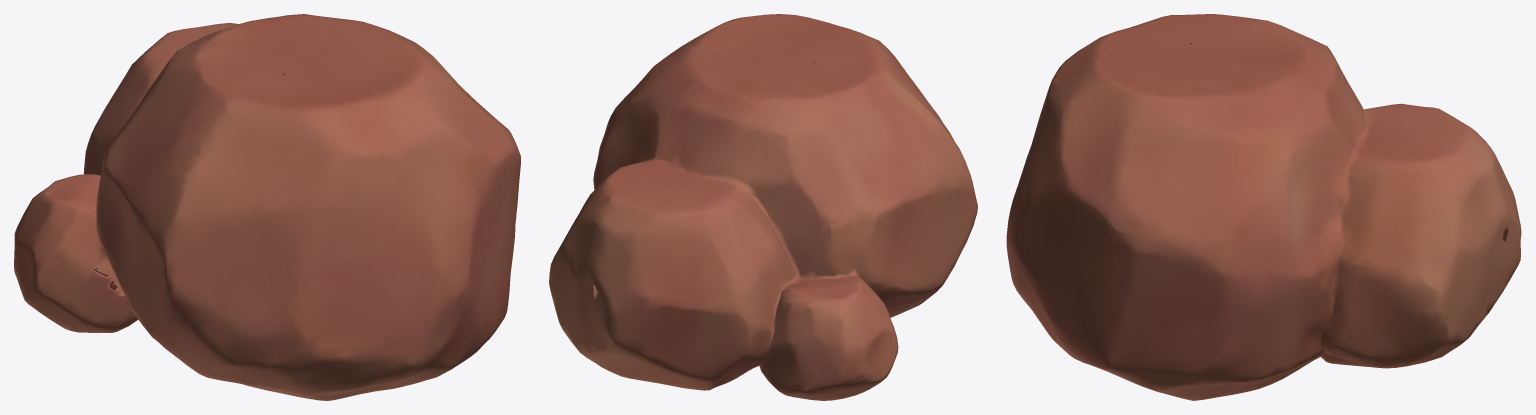
The model's file is kamni-para.glb.
The picture shows the model from 3 angles, left to right: view 1: azimuth 30°, elevation 25°; view 2: azimuth 150°, elevation 25°; view 3: azimuth 270°, elevation 25°; orthographic projection. The views are drawn at different scales.
Parts seen in each view (by area): view 1: geometry_0; view 2: geometry_0; view 3: geometry_0.
Part boxes in pixels (x1,y1,x2,y2): geometry_0: [14, 14, 520, 400]; geometry_0: [549, 14, 977, 400]; geometry_0: [1006, 14, 1521, 400].
Bounding box in the file's own units: 0.8427 × 0.6541 × 1.
Materials: 1 (1 with a texture image).
